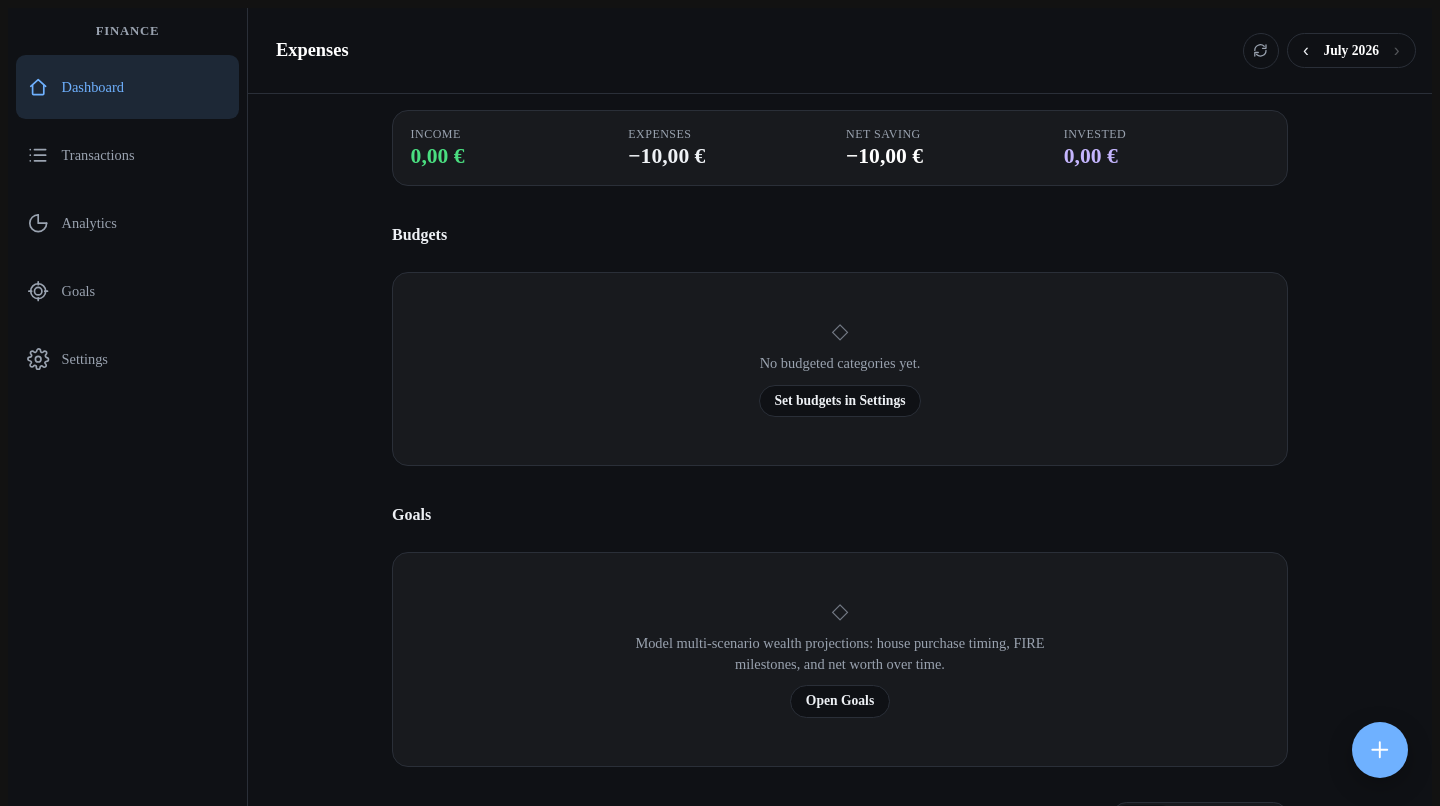
Test: ExpensesApp while selecting transactions › opens the add sheet from the button and closes it from the sheet
Click the button "Transactions" at [128, 155], box [16,123,239,187]
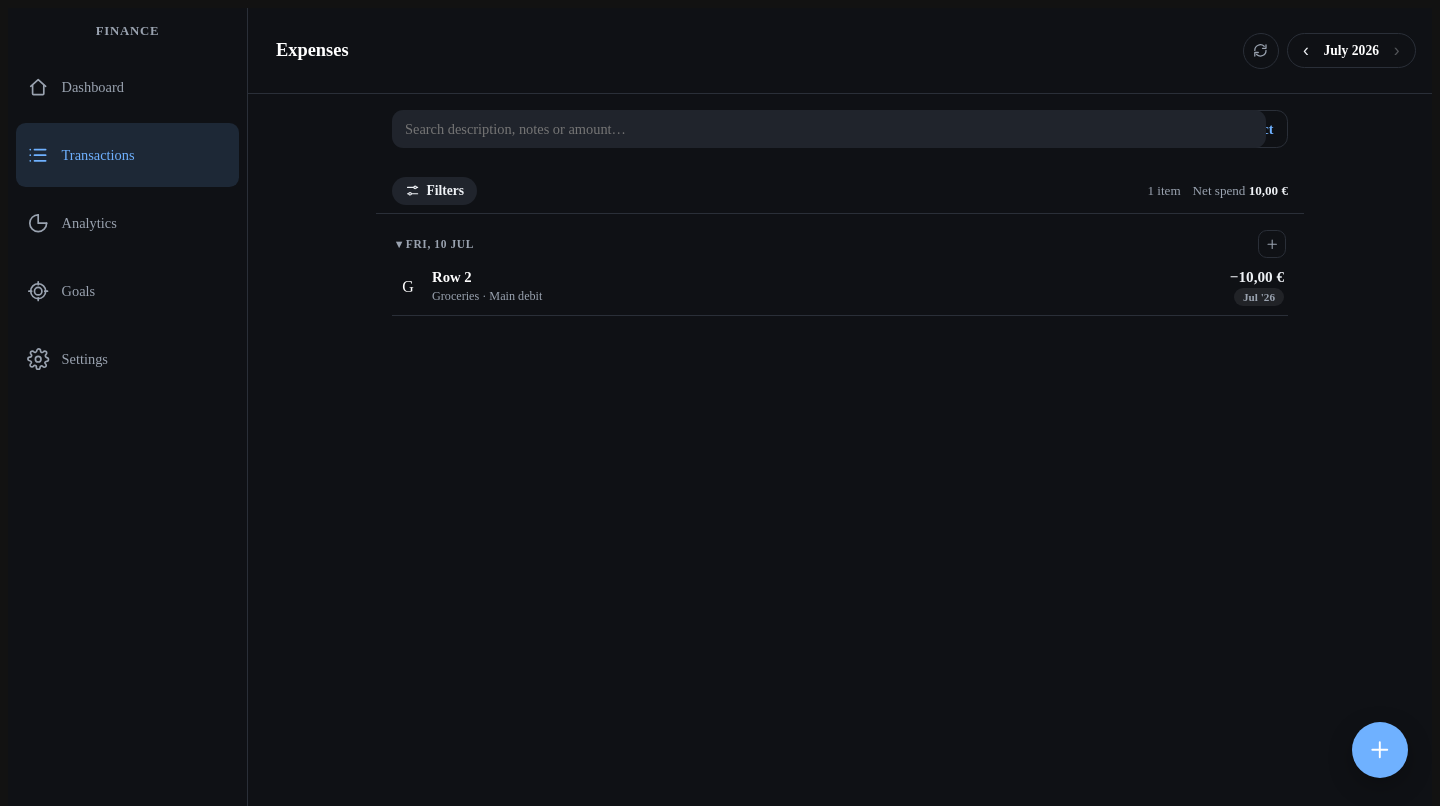
Expected: the text "Row 2" is shown, [432,270,472,286]
Click the button named "Add transaction" at [1380, 750], box [1352,722,1408,778]
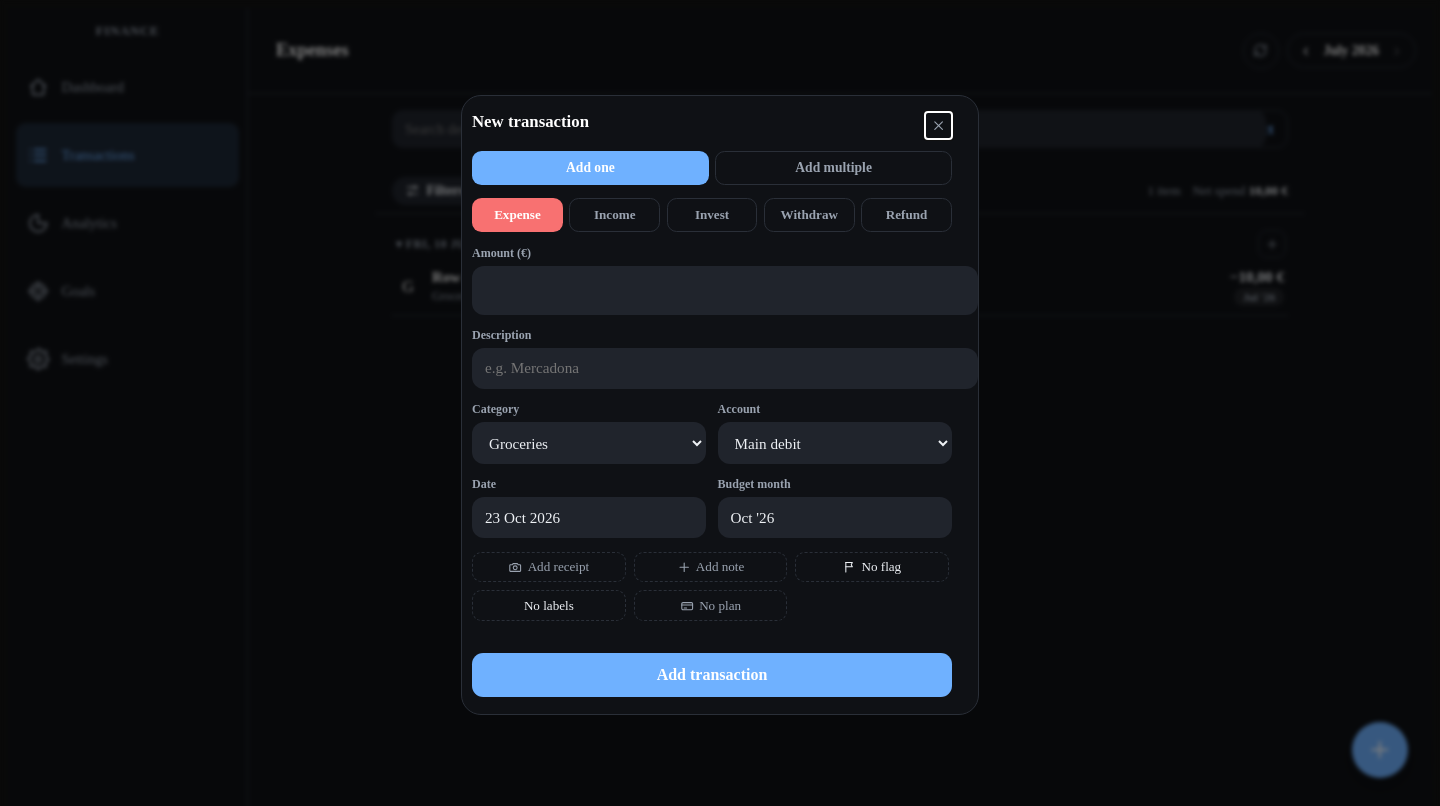
Expected: the dialog "New transaction" is shown, [461,95,979,715]
Click the button named "Close" at [938, 125], box [925,112,952,139]
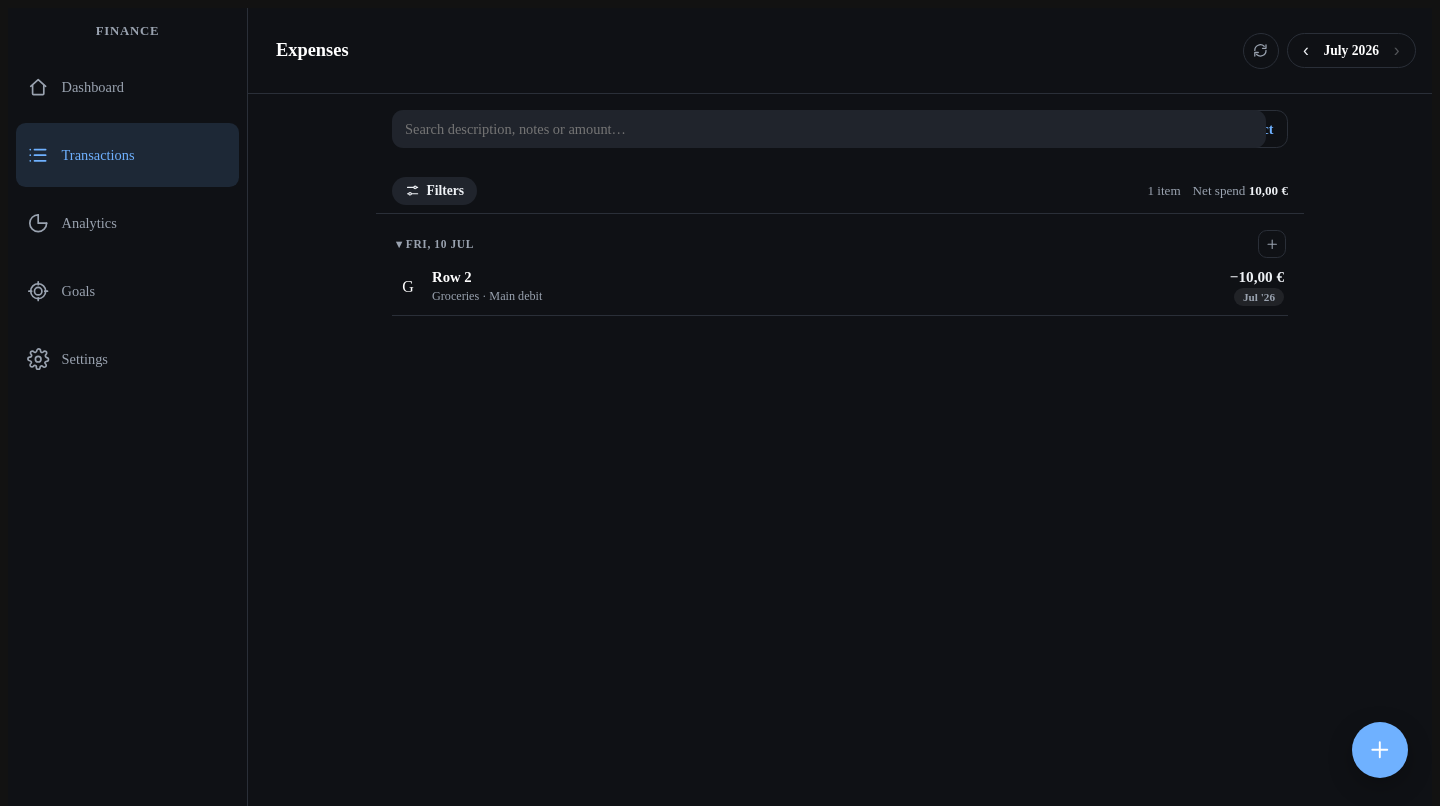
Expected: the heading "New transaction" is gone
